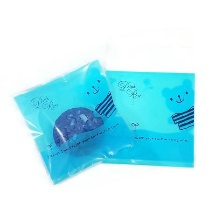snack: (8, 54, 139, 189), (94, 65, 199, 172)
